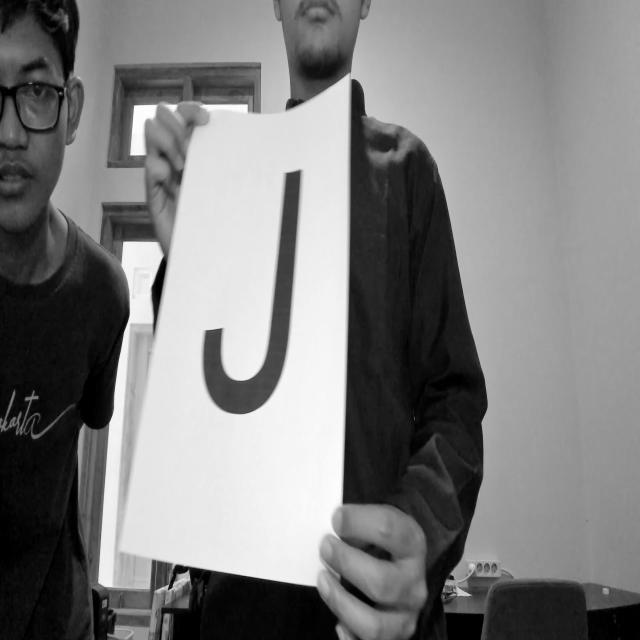j: (177, 150, 322, 431)
